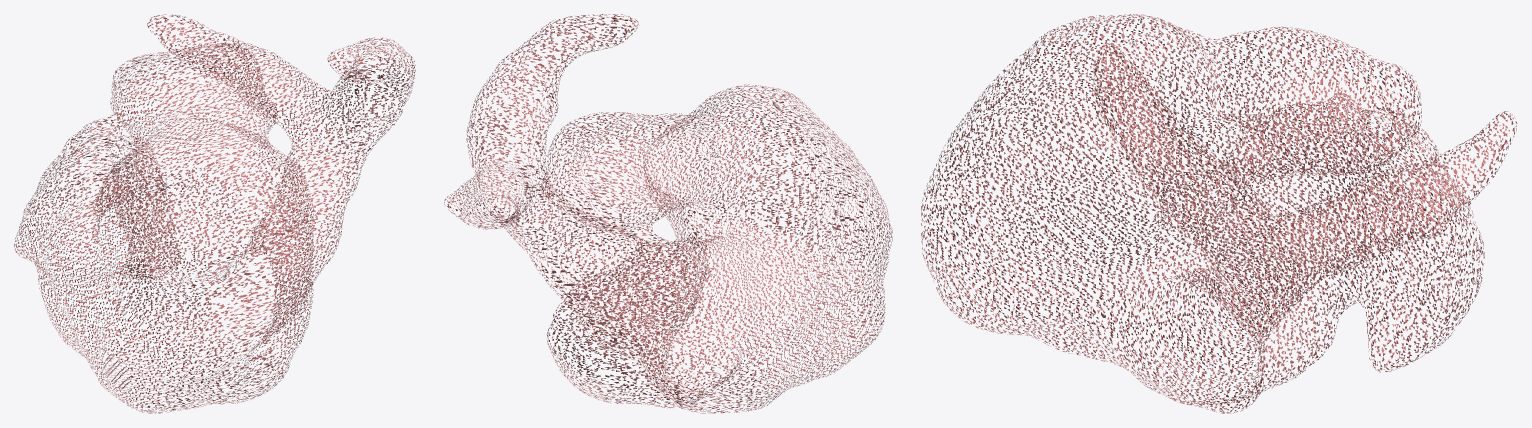
Rendered from heart.glb.
The picture shows the model from 3 angles, left to right: view 1: azimuth 30°, elevation 25°; view 2: azimuth 150°, elevation 25°; view 3: azimuth 270°, elevation 25°; orthographic projection. The views are drawn at different scales.
Bounding box in the file's own units: 130 × 117 × 146.
